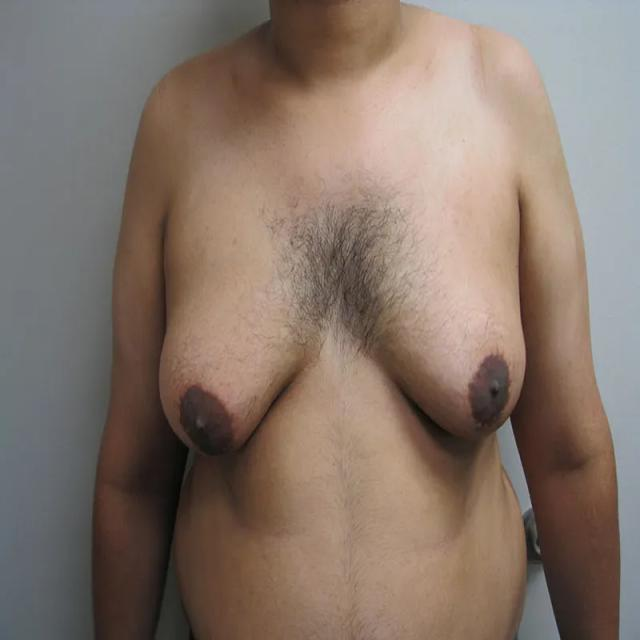Seno ileso: (153, 228, 334, 477), (346, 227, 532, 458)
